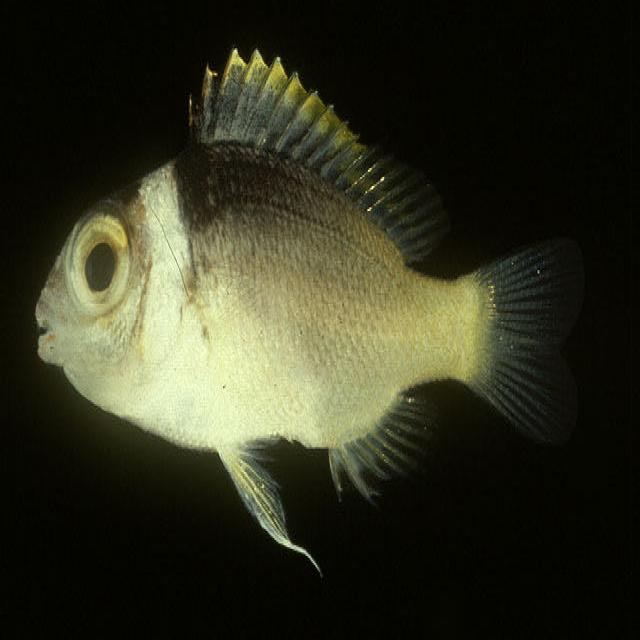ikan: (33, 43, 586, 577)
